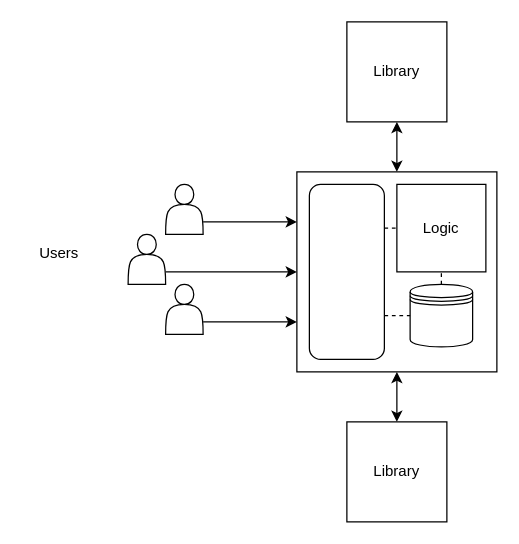
Some shapes in this 519 by 544 pixel diagram are drawn without their labels. The centre of each missing label's shape, as x and y in pixels:
Librarian API: the point at 346,271
User DB: the point at 441,315
